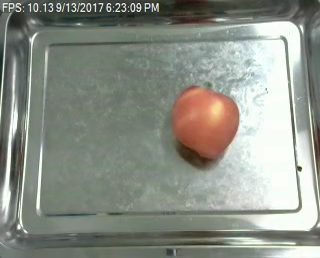Apple: (168, 84, 242, 159)
